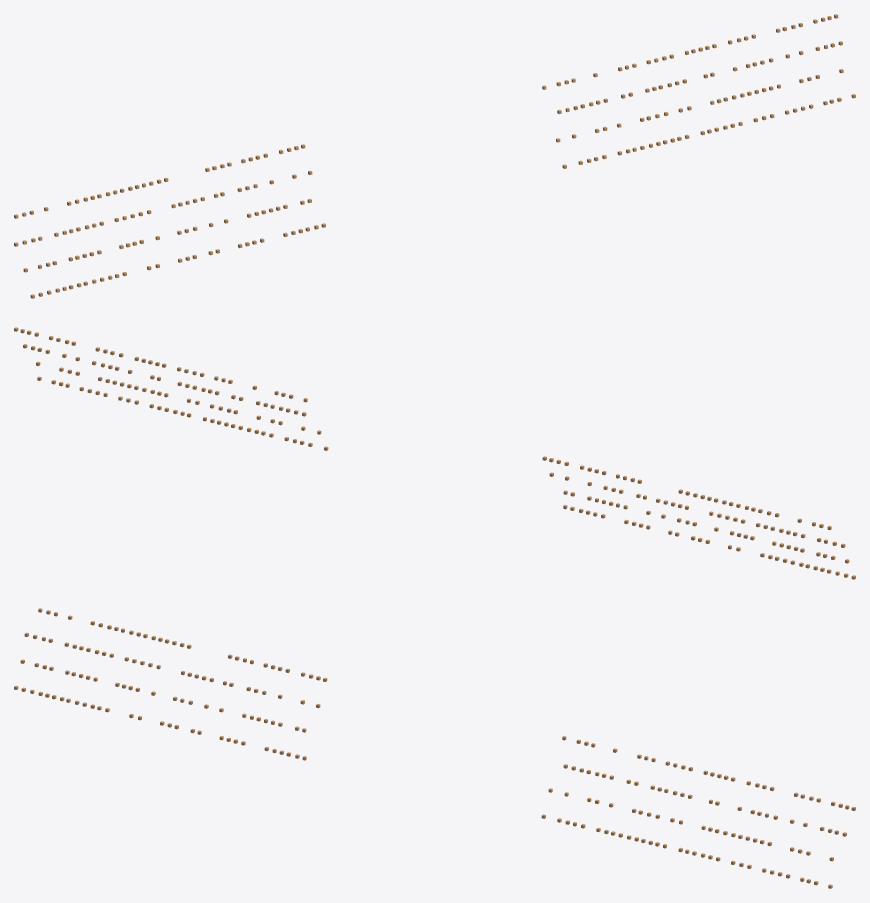
Rendered from CrowdHeadsFar.fbx.
The picture shows the model from 3 angles, top to bottom: view 1: azimuth 30°, elevation 25°; view 2: azimuth 150°, elevation 25°; view 3: azimuth 330°, elevation 25°; orthographic projection.
Parts seen in each view (by area): view 1: HeadFar0.001; view 2: HeadFar0.001; view 3: HeadFar0.001.
Part boxes in pixels (x1,y1,x2,y2): HeadFar0.001: (14,14,855,298); HeadFar0.001: (14,327,855,579); HeadFar0.001: (14,608,855,888).
Size of the model in its own units: 24428 by 1880 by 1130.
